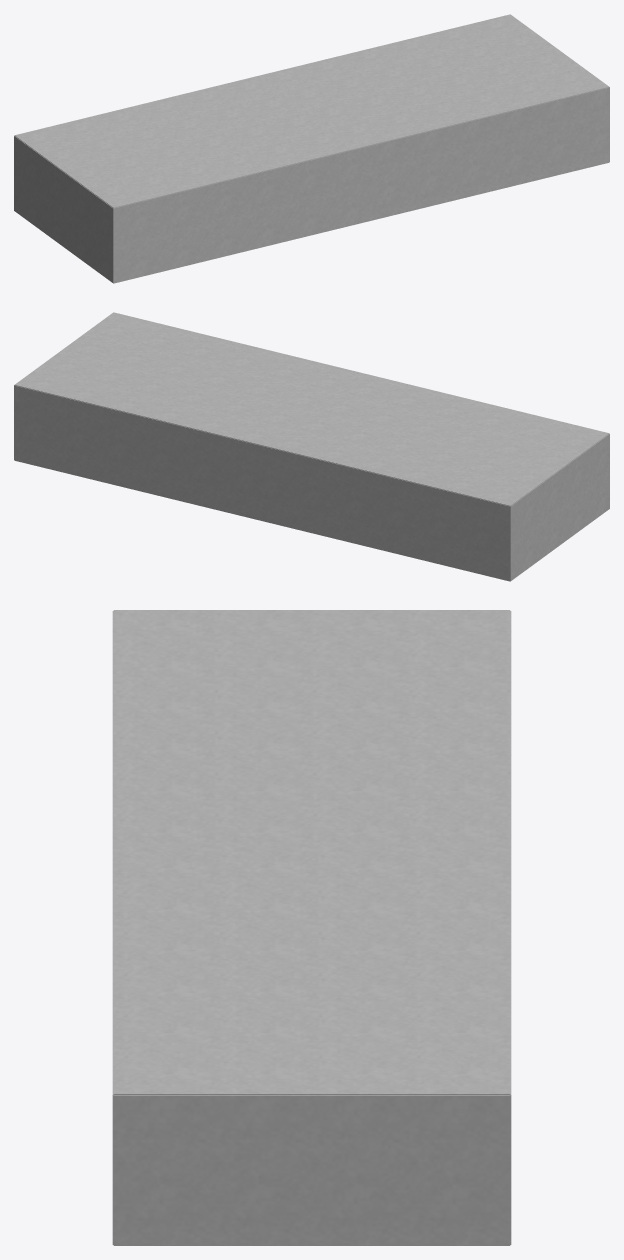
Rendered from haikei.fbx.
The picture shows the model from 3 angles, top to bottom: view 1: azimuth 30°, elevation 25°; view 2: azimuth 150°, elevation 25°; view 3: azimuth 270°, elevation 25°; orthographic projection. The views are drawn at different scales.
Visible parts, largest first — view 1: yuka_tenzyou1, itibansotonokabe, pCube18, yuka_tenzyou; view 2: yuka_tenzyou1, itibansotonokabe1, pCube18, yuka_tenzyou; view 3: yuka_tenzyou1, pCube16, itibansotonokabe, itibansotonokabe1.
Boxes of the visible parts, <box> form: yuka_tenzyou1: <box>14,14,609,208</box>; itibansotonokabe: <box>113,87,609,283</box>; pCube18: <box>14,136,113,283</box>; yuka_tenzyou: <box>113,162,608,283</box>; yuka_tenzyou1: <box>14,312,609,506</box>; itibansotonokabe1: <box>14,385,510,581</box>; pCube18: <box>510,434,609,581</box>; yuka_tenzyou: <box>15,460,510,581</box>; yuka_tenzyou1: <box>113,610,510,1094</box>; pCube16: <box>113,1095,510,1245</box>; itibansotonokabe: <box>112,611,113,1244</box>; itibansotonokabe1: <box>510,611,511,1244</box>.
Bounding box in the file's own units: 52.1 × 7.6 × 18.1.
Materials: 2 (1 with a texture image).
